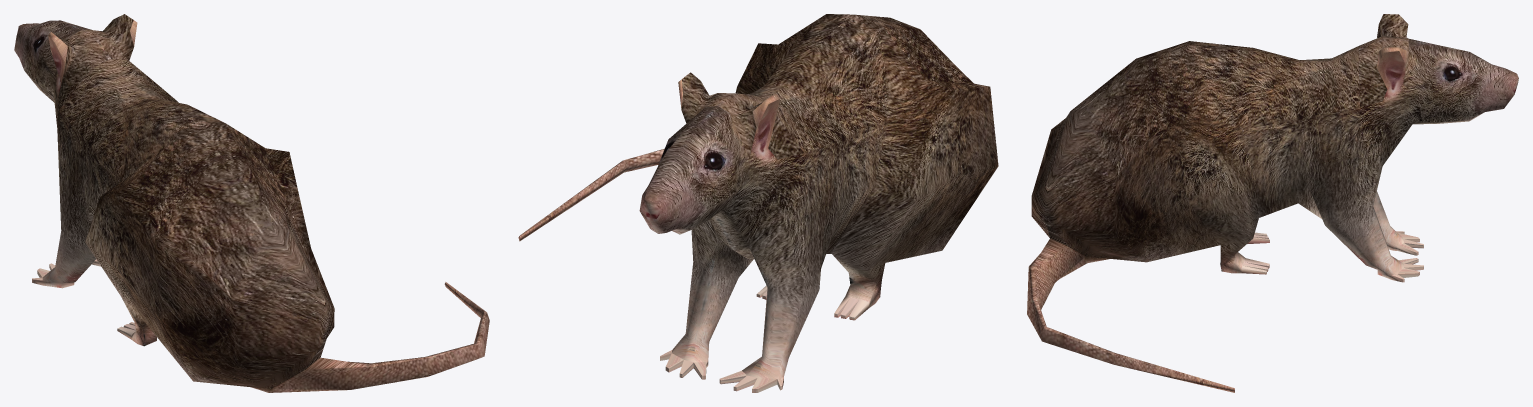
File: spinning_rat.glb
The picture shows the model from 3 angles, left to right: view 1: azimuth 30°, elevation 25°; view 2: azimuth 150°, elevation 25°; view 3: azimuth 270°, elevation 25°; orthographic projection. The views are drawn at different scales.
Visible parts, largest first — view 1: Object_6; view 2: Object_6; view 3: Object_6.
Boxes of the visible parts, <box> form: Object_6: <box>14,14,489,392</box>; Object_6: <box>518,14,998,392</box>; Object_6: <box>1027,14,1518,392</box>.
Bounding box in the file's own units: 1.42 × 1 × 1.85.
Materials: 1 (1 with a texture image).
